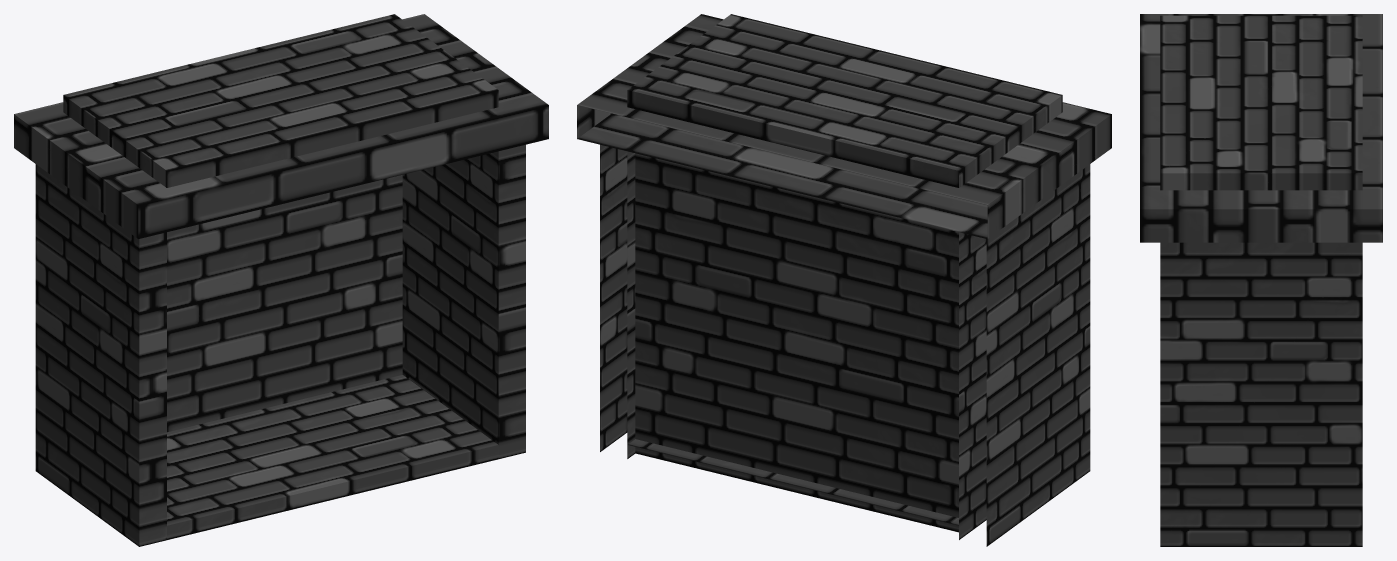
Rendered from FirePlace_3.fbx.
3 views of the same model, side by side, from view 1: azimuth 30°, elevation 25°; view 2: azimuth 150°, elevation 25°; view 3: azimuth 270°, elevation 25° (orthographic). The views are drawn at different scales.
Visible parts, largest first — view 1: polySurface484; view 2: polySurface484; view 3: polySurface484.
Part boxes in pixels (box(x1,y1,x2,y2)): polySurface484: box(14, 14, 548, 546); polySurface484: box(577, 14, 1111, 546); polySurface484: box(1140, 14, 1382, 546).
Bounding box in the file's own units: 2.97 × 2.55 × 1.56.
